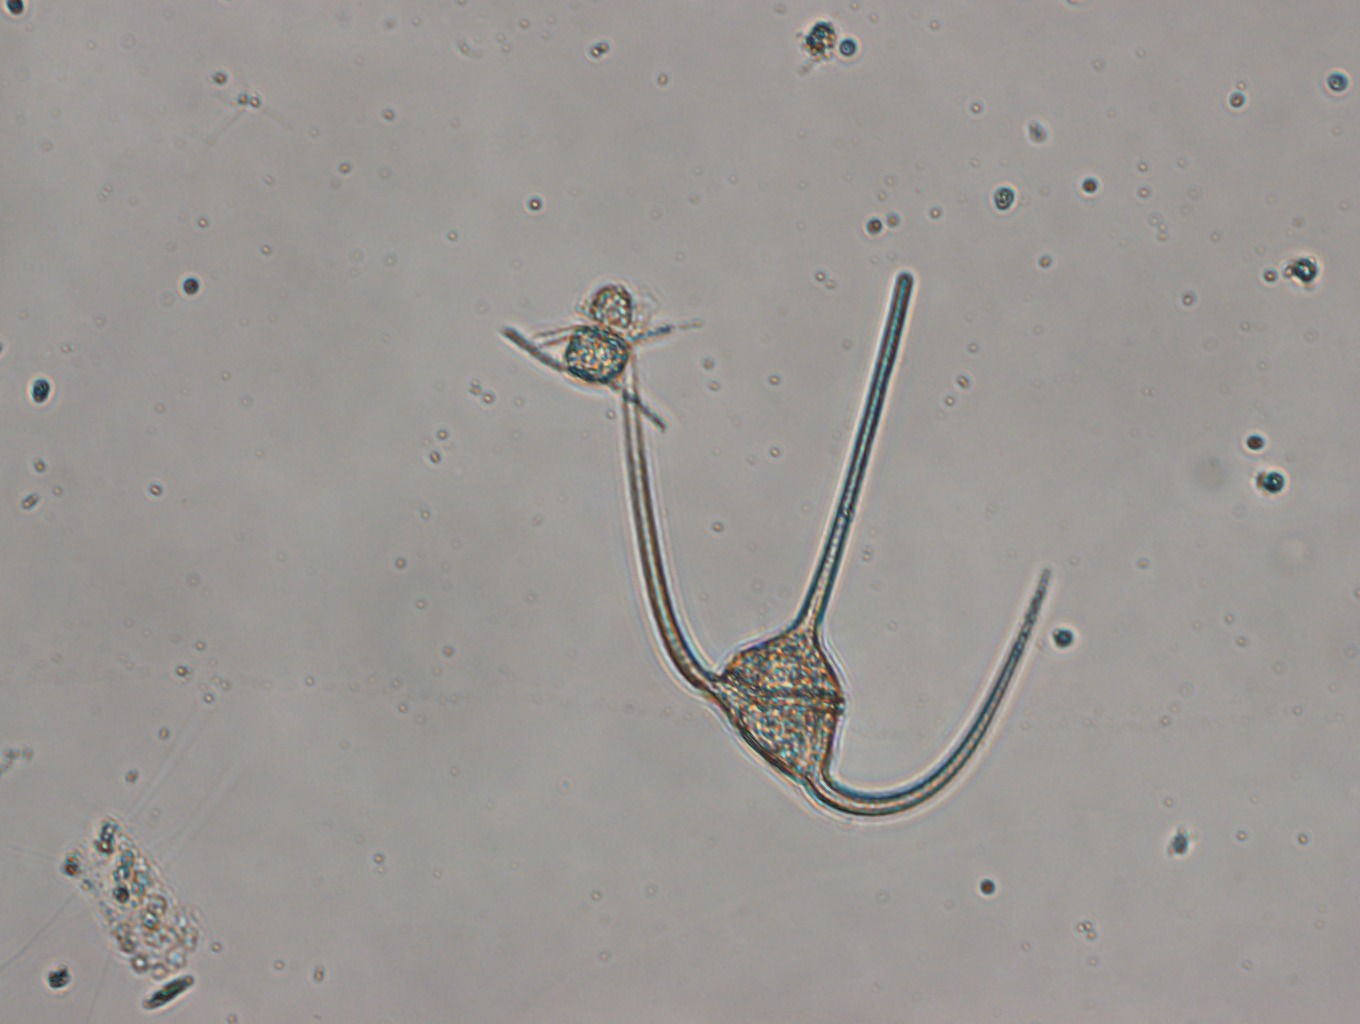ceratium trichoceros: (618, 265, 1051, 817)
chaetoceros: (499, 276, 716, 431)
